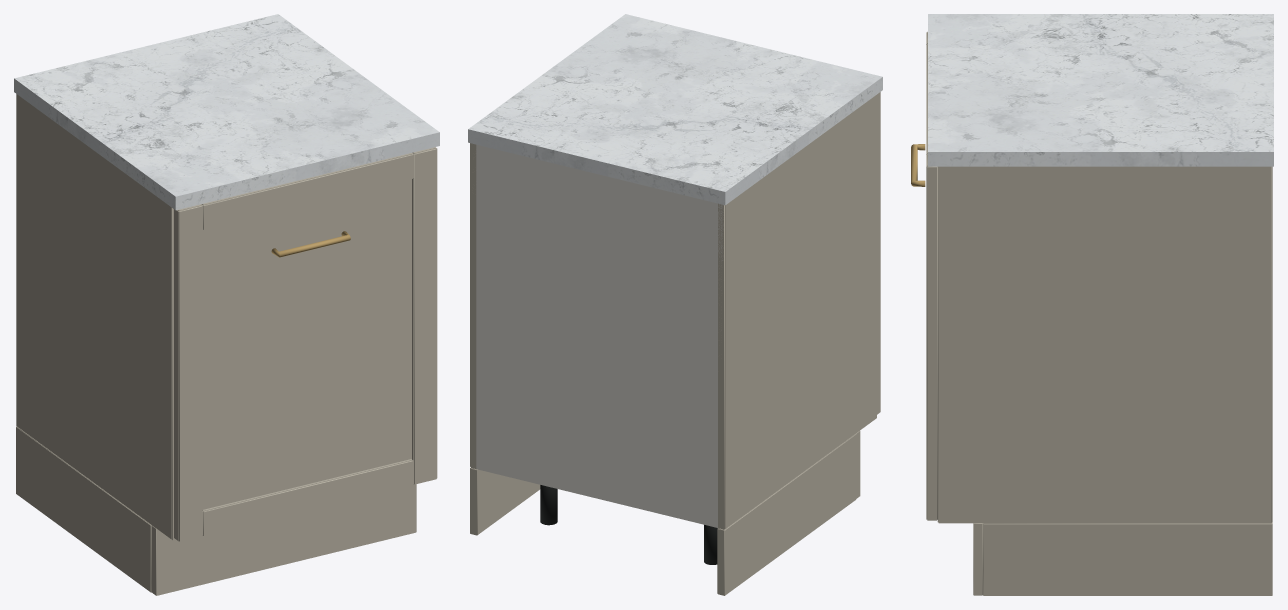
File: scandinavian.kitchen_base.gltf
3 renders of one model, left to right at view 1: azimuth 30°, elevation 25°; view 2: azimuth 150°, elevation 25°; view 3: azimuth 270°, elevation 25°, orthographic. The views are drawn at different scales.
Visible parts, largest first — view 1: scandinavian.kitchen_base.back; view 2: scandinavian.kitchen_base.back; view 3: scandinavian.kitchen_base.back.
Part boxes in pixels (box(x1,y1,x2,y2)): scandinavian.kitchen_base.back: box(14, 14, 439, 595); scandinavian.kitchen_base.back: box(468, 14, 882, 595); scandinavian.kitchen_base.back: box(911, 14, 1273, 595).
Bounding box in the file's own units: 0.604 × 0.91 × 0.671.
5 materials, 1 textured.
